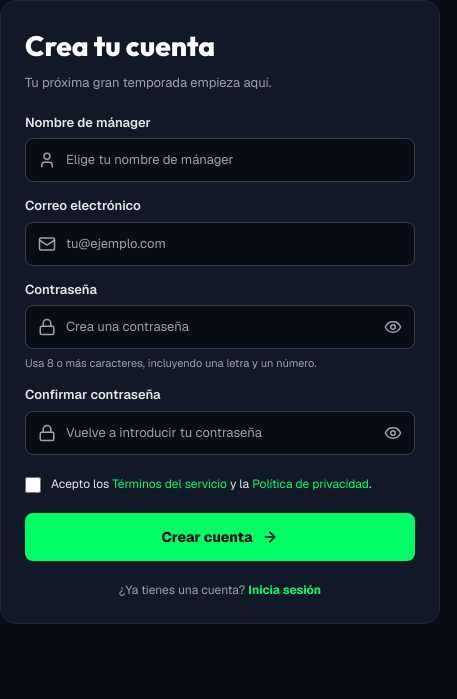
Test: RegisterPage › shows the form error returned by the action
Type "ApexManager" into the field labelled "Nombre de mánager" at (234, 160), box [66,150,402,170]
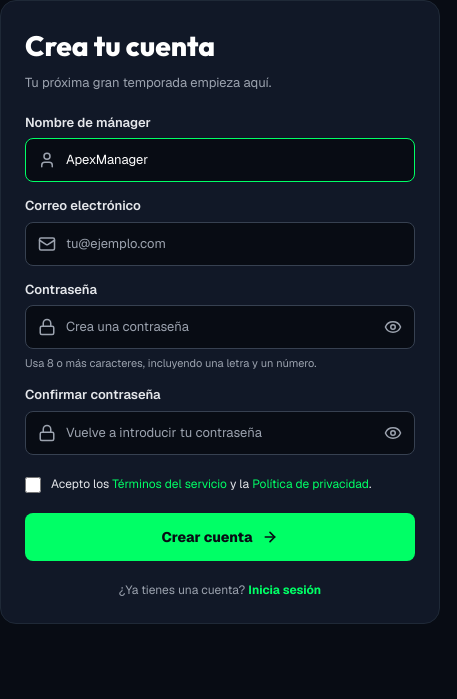
Type "apex@example.com" into the field labelled "Correo electrónico" at (234, 244), box [66,234,402,253]
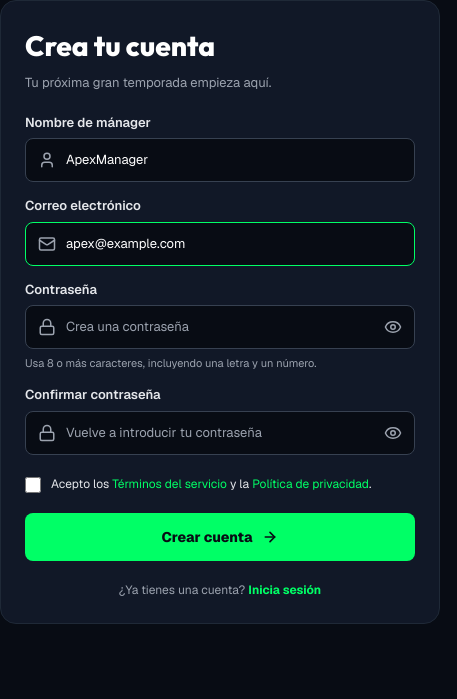
Type "secret123" into the password field labelled "Contraseña" at (220, 327), box [66,317,374,337]
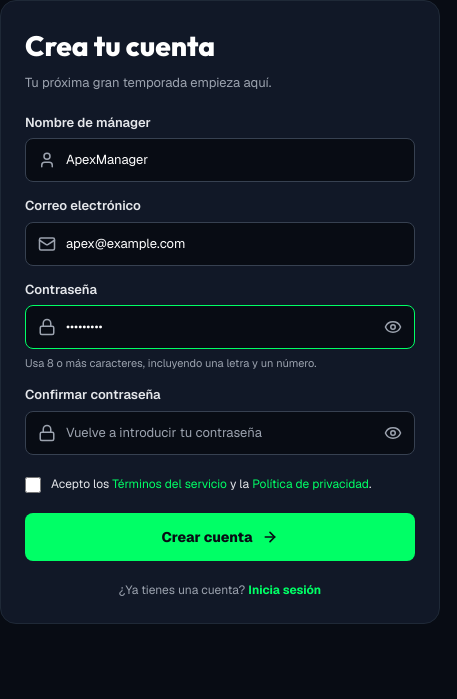
Type "secret123" into the password field labelled "Confirmar contraseña" at (220, 433), box [66,423,374,442]
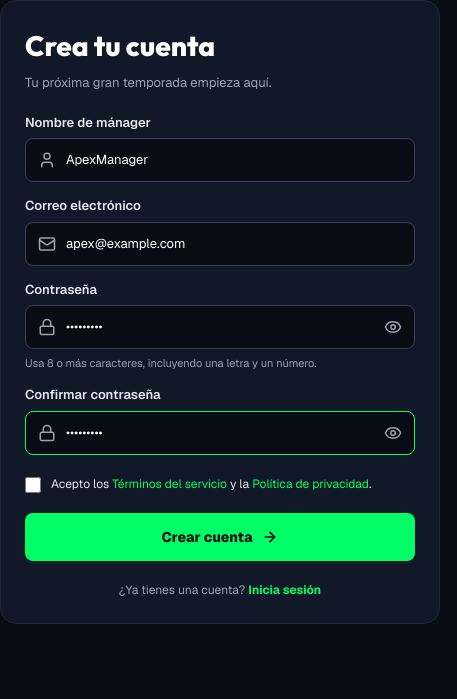
Click the checkbox at (33, 484), box [25,476,41,492]
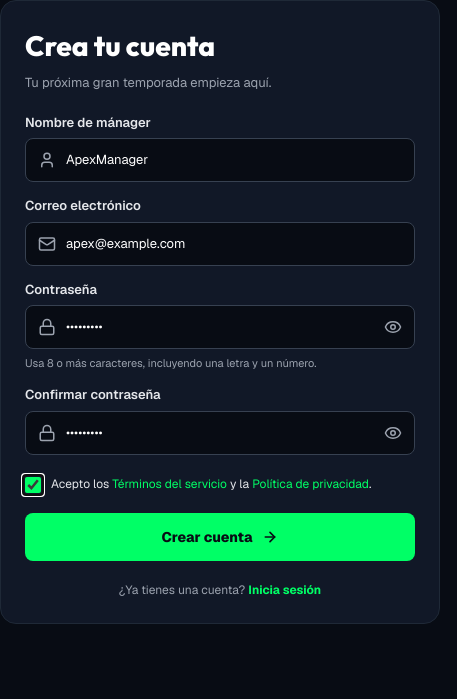
Click the button "Crear cuenta" at (220, 536), box [25,512,415,560]
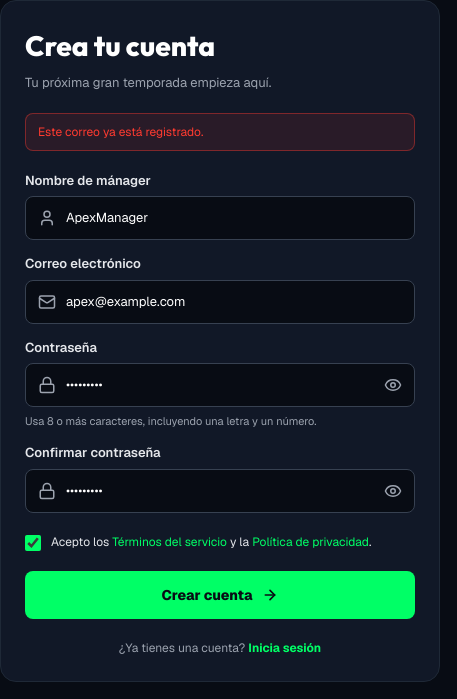
Result: the message reads "Este correo ya está registrado." at [38,124,203,140]
